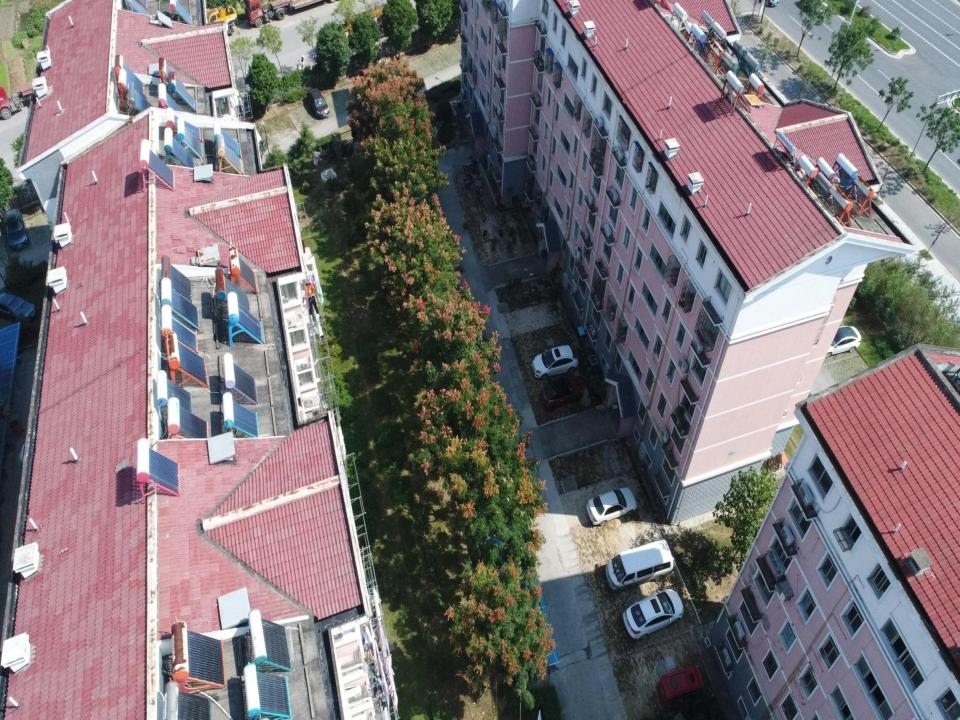car: (622, 589, 684, 640), (586, 487, 637, 526), (531, 345, 579, 379), (541, 376, 583, 411), (821, 325, 861, 358), (0, 293, 37, 323), (3, 209, 28, 249), (306, 88, 330, 120)
truck: (244, 0, 338, 27), (0, 80, 59, 120)
van: (606, 539, 674, 592)
